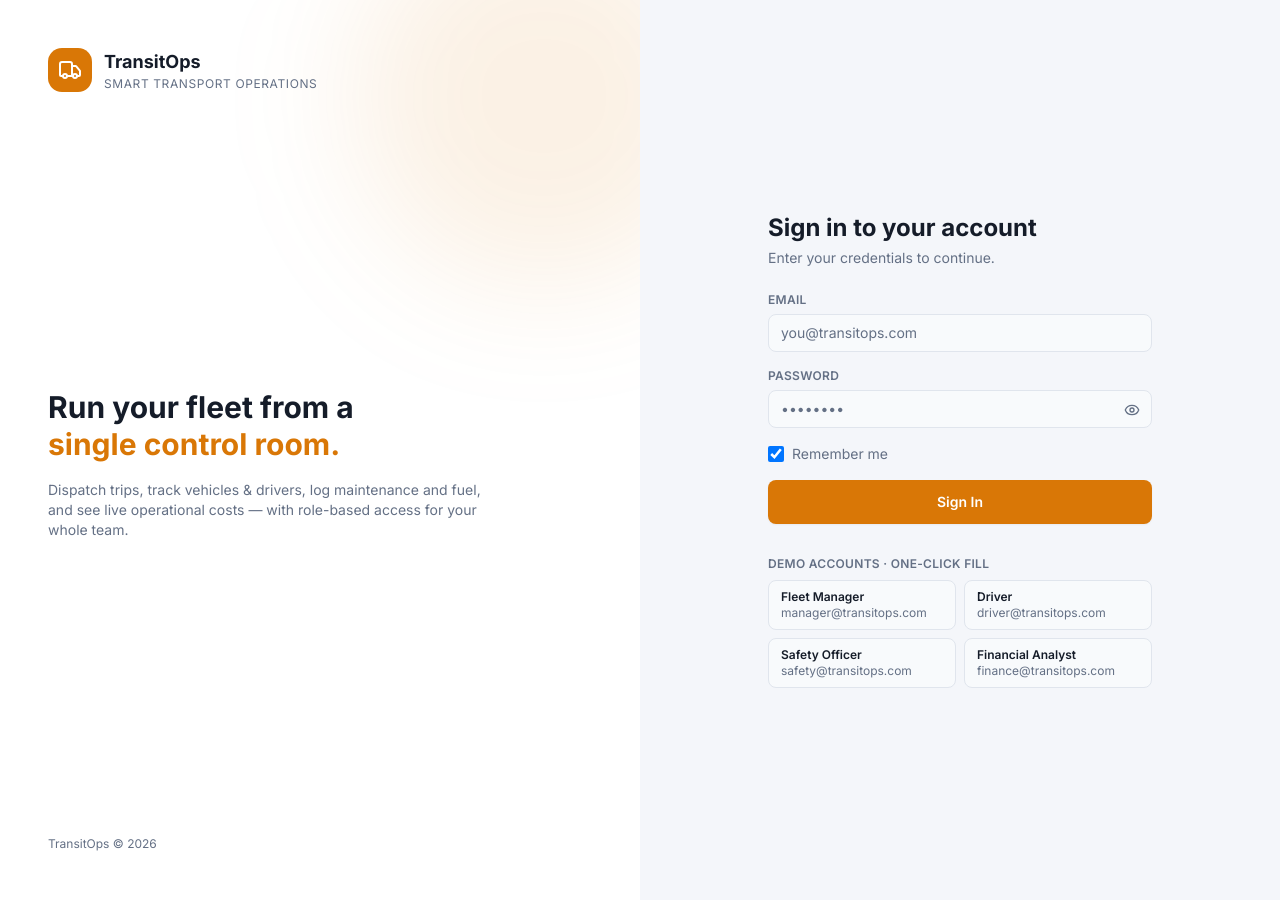
Scenario: LoginPage › shows validation errors when submitting empty credentials
Click the button "Sign In": x=960, y=502 [768,480,1152,524]
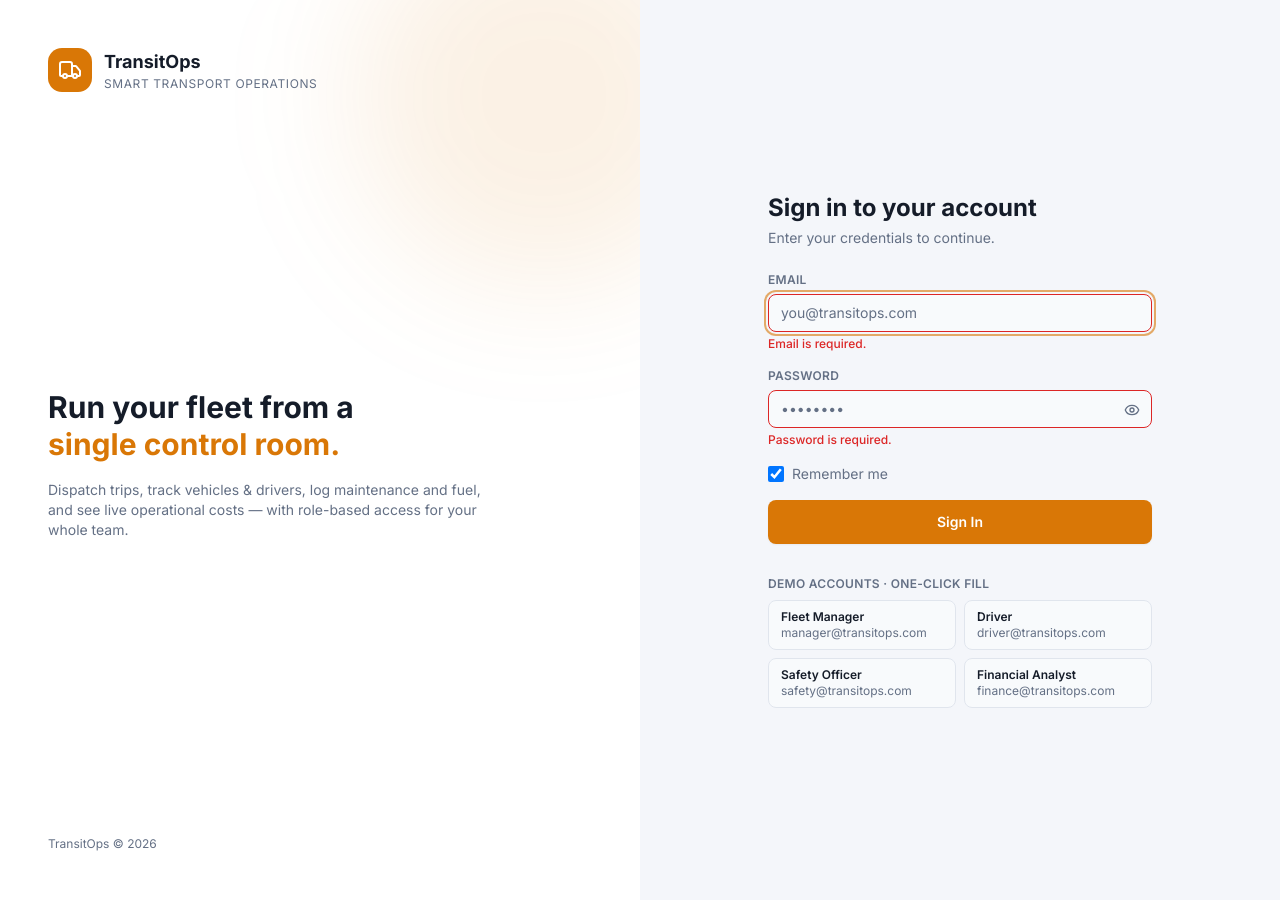
Expected: the text "Email is required." is shown, [768,336,866,351]
Expected: the text "Password is required." is shown, [768,432,892,447]
